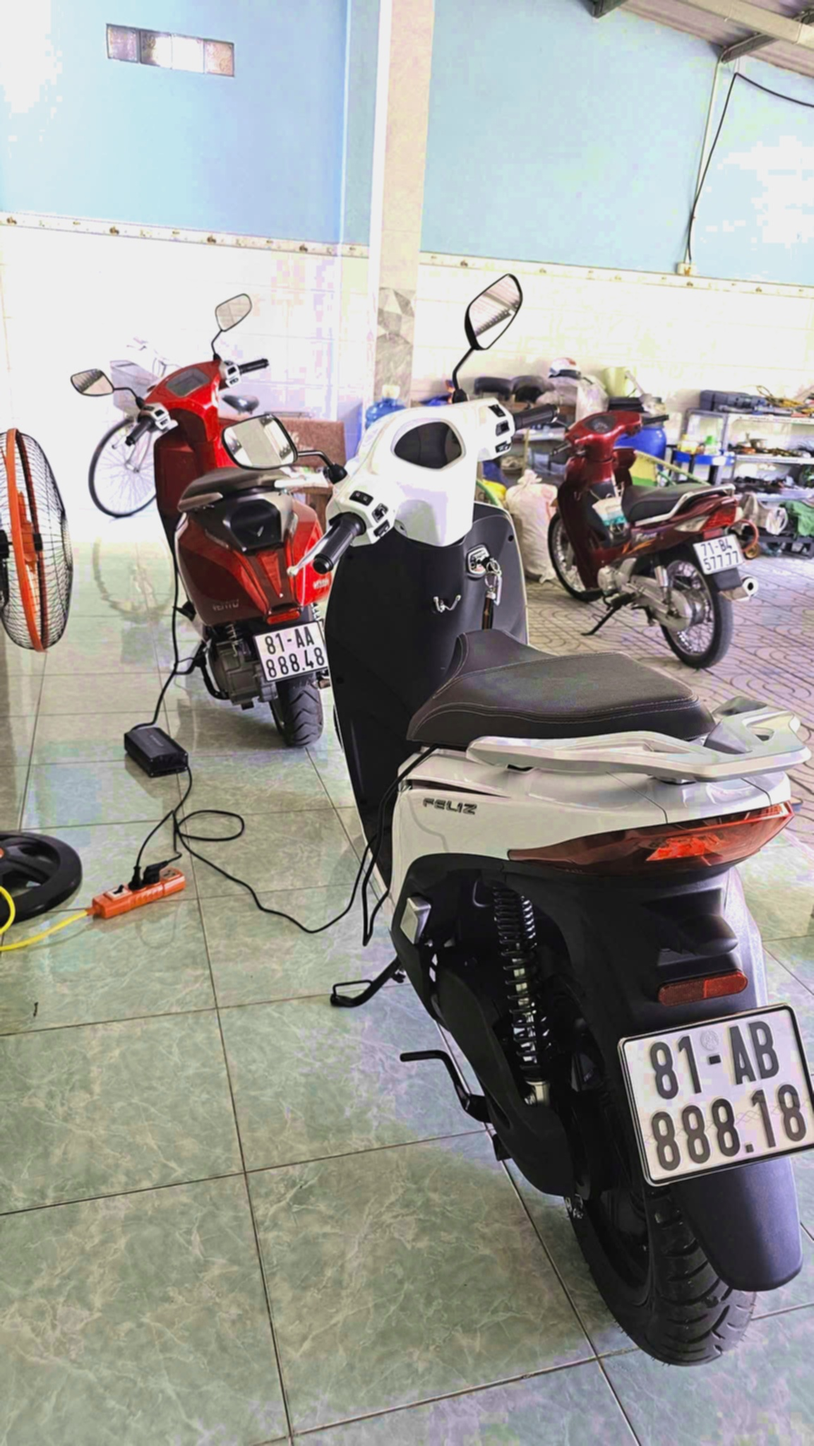Bien-so: (594, 1039, 794, 1229), (233, 635, 306, 706), (684, 549, 731, 597)
